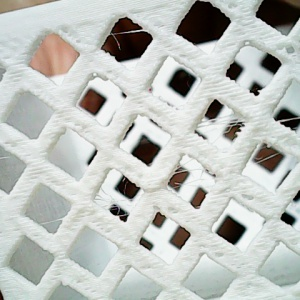3dpstringing: (173, 156, 213, 202), (193, 111, 245, 142), (92, 189, 142, 221), (106, 28, 146, 54), (245, 147, 282, 170), (37, 215, 66, 234), (273, 116, 298, 126), (1, 152, 16, 166), (121, 175, 132, 192)
3dpunderextrusion: (215, 185, 264, 208), (269, 35, 300, 64), (193, 242, 232, 264), (57, 23, 90, 48), (144, 206, 185, 223)
